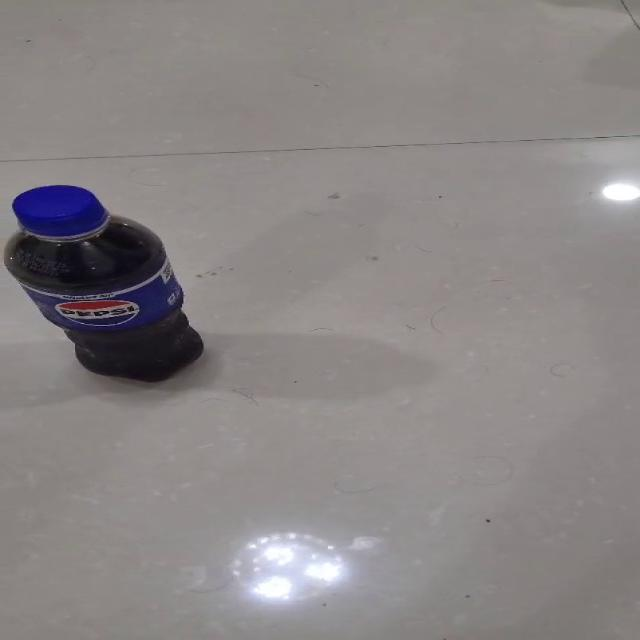plastic: (1, 184, 205, 382)
